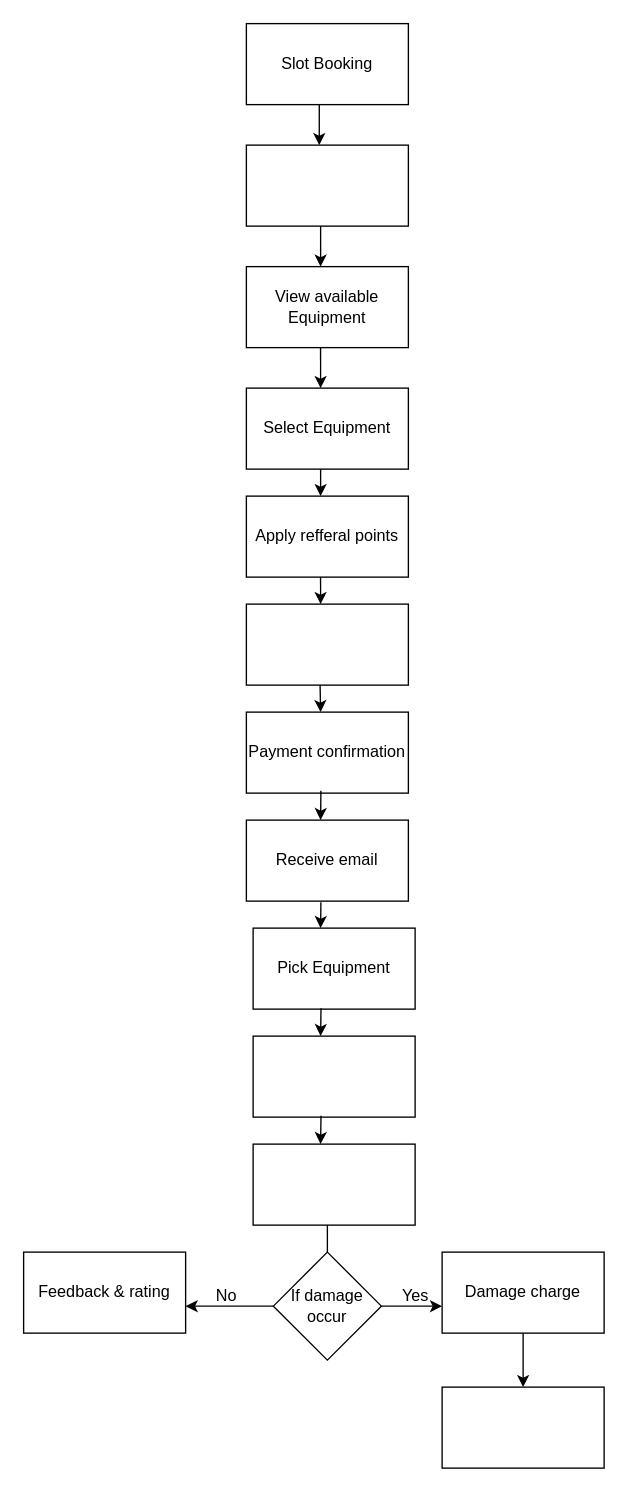
Image size: 628x1492. Some labels were removed from this diagram. The centre of each missing label's shape, as x and y in pixels:
Equipment inspection by admin: point 333,1184
Feddback & rating: point 522,1427
Payment Processing: point 326,644
Rental Equipment: point 326,185
Return Equipment: point 333,1076
